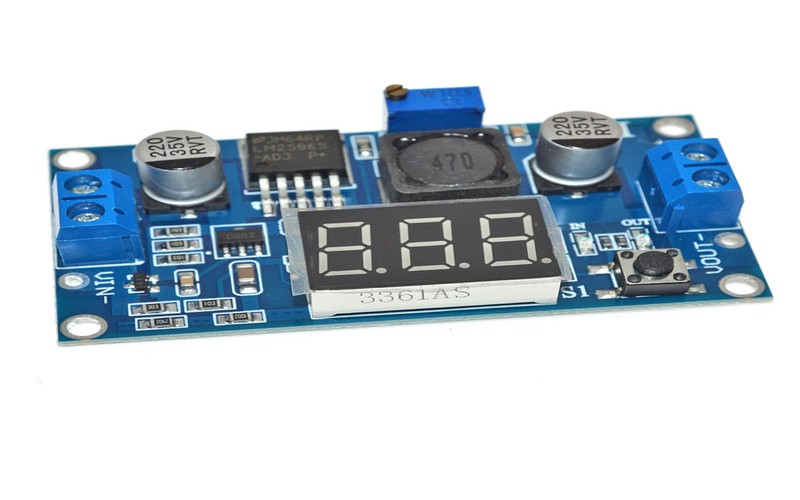Regulator: (23, 62, 799, 369)
